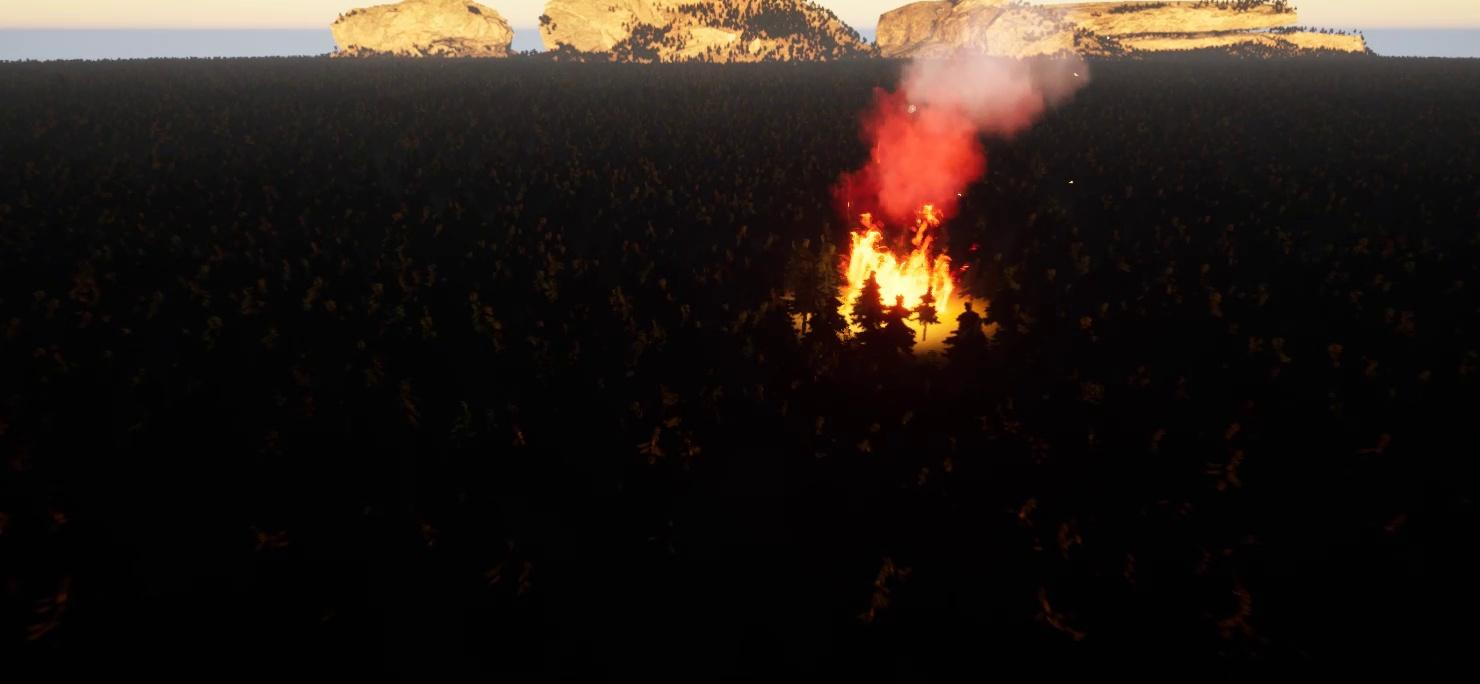fire: (839, 220, 968, 334)
smoke: (839, 7, 1089, 228)
